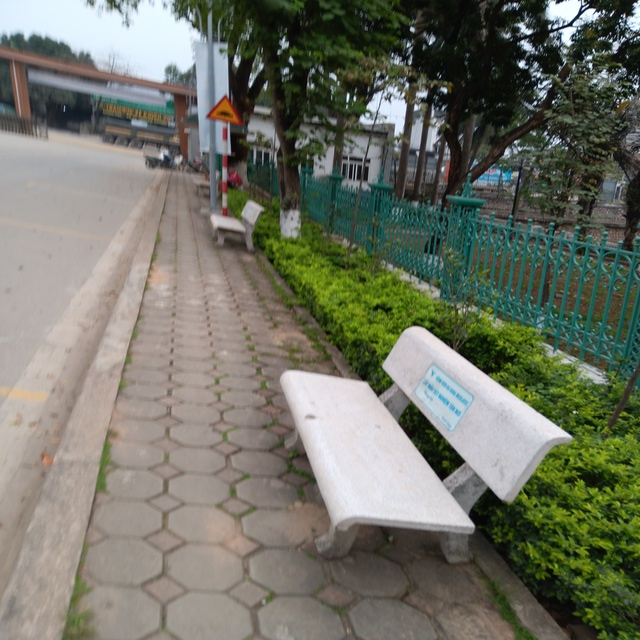gheda: (276, 322, 574, 572), (209, 197, 267, 255), (189, 168, 222, 196)
